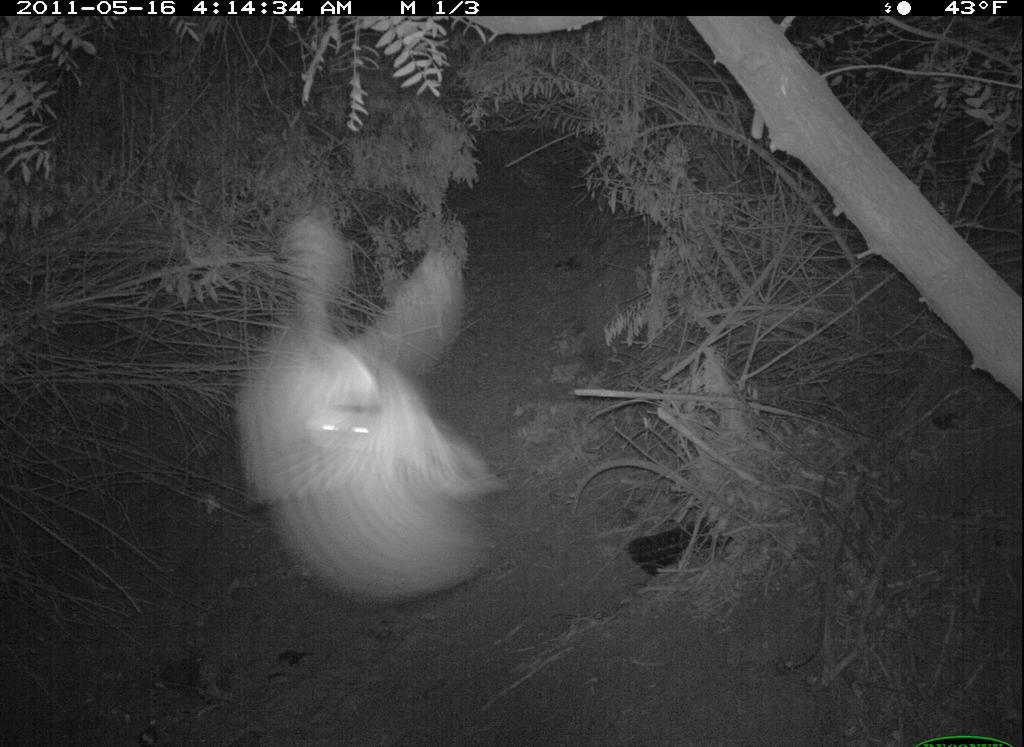bird: (242, 199, 519, 612)
